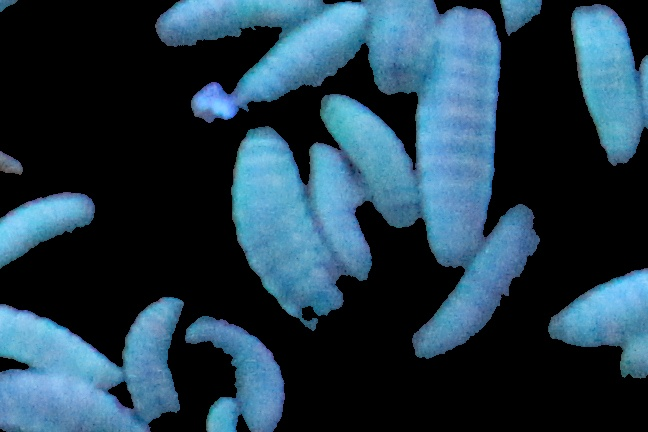larvae: (226, 129, 342, 326), (416, 7, 499, 268), (410, 203, 540, 362), (234, 1, 364, 107), (320, 95, 415, 227), (184, 311, 287, 432), (568, 6, 643, 167), (1, 303, 120, 390), (1, 369, 151, 432), (308, 143, 370, 281), (120, 295, 185, 425), (547, 270, 648, 349), (1, 191, 94, 274), (153, 1, 320, 47), (365, 1, 420, 93)
